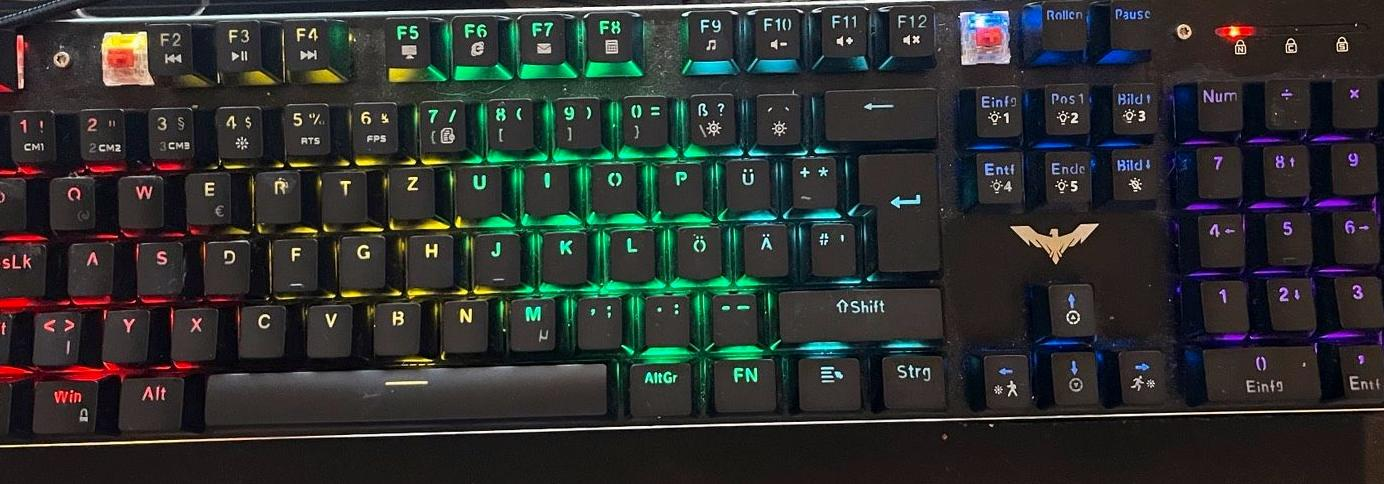0: (619, 93, 669, 149)
1: (6, 105, 56, 163)
2: (75, 104, 126, 162)
3: (144, 102, 195, 163)
4: (212, 101, 263, 160)
5: (278, 99, 331, 158)
6: (347, 97, 400, 156)
7: (415, 96, 467, 154)
8: (483, 96, 534, 151)
9: (551, 93, 602, 151)
a: (64, 236, 113, 295)
accent: (751, 88, 800, 145)
ae: (740, 220, 789, 275)
alt-left: (115, 371, 184, 431)
altgr-right: (625, 358, 693, 417)
b: (370, 297, 420, 353)
c: (235, 300, 286, 356)
caret: (1, 108, 25, 161)
comma: (573, 293, 622, 348)
d: (202, 235, 250, 293)
del: (820, 83, 936, 139)
e: (181, 167, 231, 223)
enter: (854, 147, 939, 273)
f: (270, 231, 317, 289)
g: (336, 229, 385, 287)
h: (405, 229, 453, 286)
hash: (806, 219, 854, 275)
i: (521, 161, 569, 214)
j: (470, 229, 520, 284)
k: (538, 227, 588, 284)
keyboard: (1, 1, 1384, 465)
l: (605, 225, 655, 280)
less: (29, 306, 80, 363)
m: (505, 294, 556, 351)
minus: (706, 289, 756, 344)
n: (438, 295, 488, 351)
o: (586, 159, 637, 213)
oe: (673, 222, 721, 279)
p: (654, 159, 703, 212)
plus: (787, 152, 836, 208)
point: (640, 291, 688, 344)
q: (45, 173, 95, 229)
r: (251, 166, 301, 222)
s: (133, 235, 184, 294)
shift-left: (1, 309, 34, 364)
shift-lock: (1, 237, 51, 296)
shift-right: (774, 284, 942, 340)
space: (198, 362, 608, 426)
ss: (685, 91, 736, 148)
strg-left: (1, 378, 34, 437)
strg-right: (877, 350, 947, 410)
t: (319, 165, 367, 220)
tab: (1, 174, 43, 229)
u: (451, 162, 502, 218)
ue: (721, 154, 770, 212)
v: (303, 299, 351, 354)
w: (114, 170, 164, 227)
x: (168, 302, 217, 358)
y: (99, 304, 149, 360)
z: (385, 162, 433, 217)
